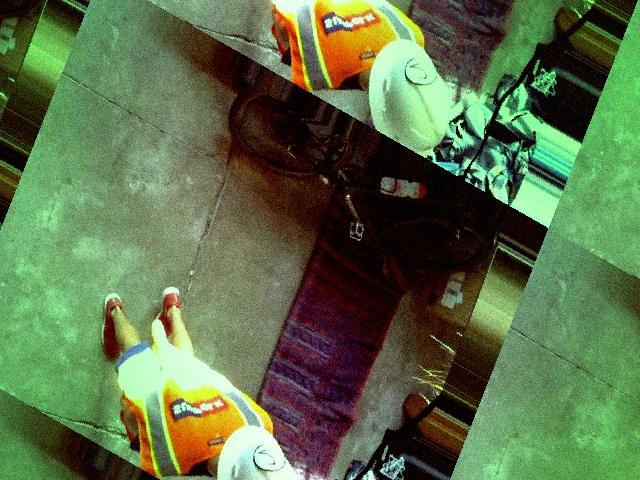two: (250, 437, 287, 477)
